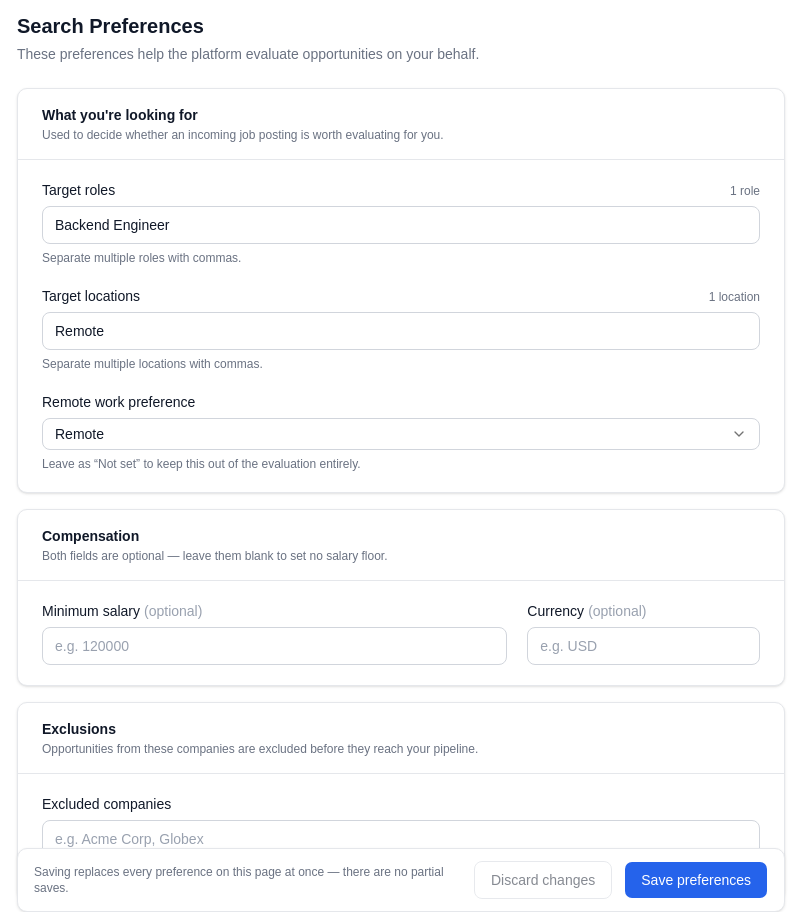
SettingsPage › restores the last loaded values when changes are discarded
Expected: the button "Discard changes" is disabled, [474,861,612,899]
Type ", Staff Engineer" into the field labelled "Target roles" at [401, 225], box [42,206,760,244]
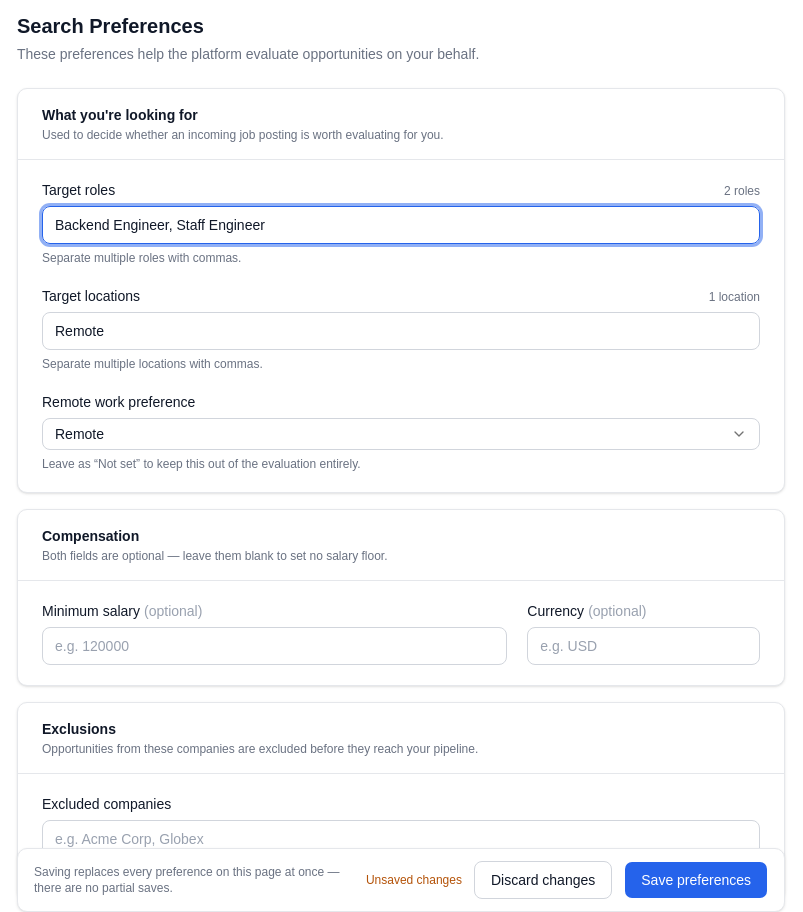
Now the text "Unsaved changes" is shown, box [366,872,462,888]
Now the button "Discard changes" is enabled
Click the button "Discard changes" at [543, 880], box [474,861,612,899]
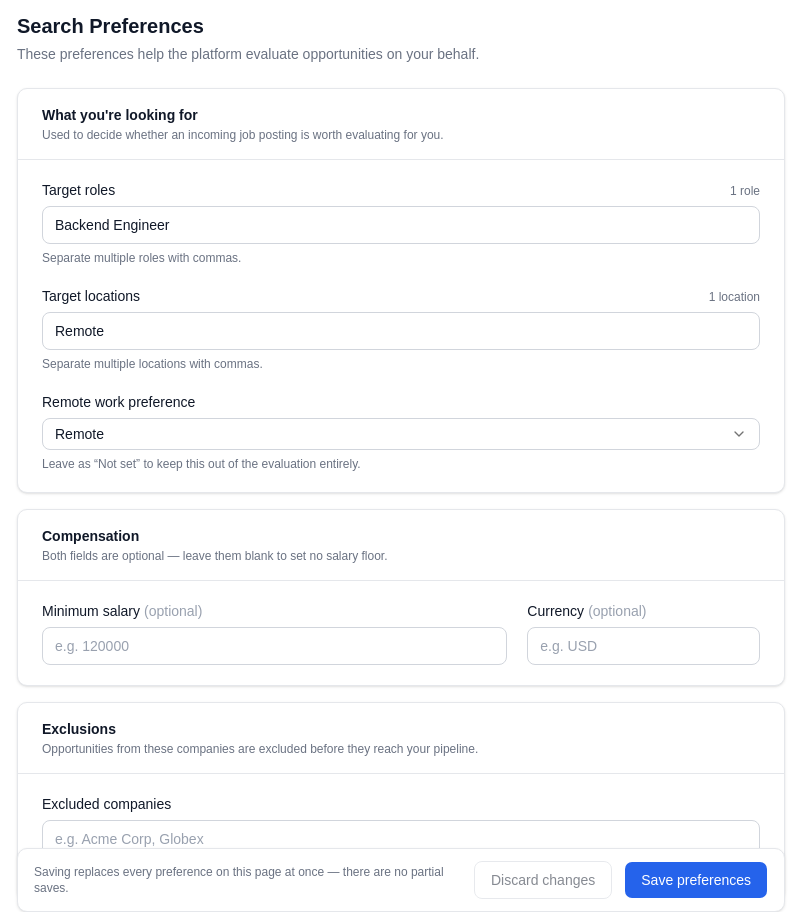
Now the field labelled "Target roles" holds "Backend Engineer", box [42,206,760,244]
Now the text "Unsaved changes" is gone
